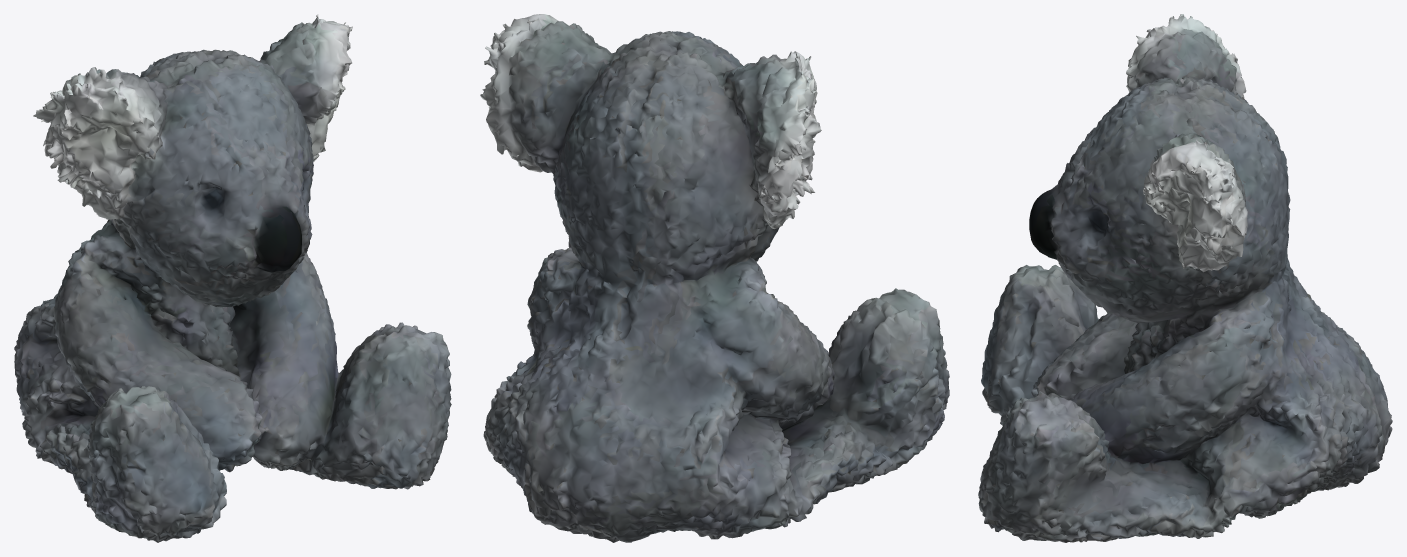
Rendered from Ortho_Forward_Facing_QCaor9ImJ2G-high.glb.
3 renders of one model, left to right at view 1: azimuth 30°, elevation 25°; view 2: azimuth 150°, elevation 25°; view 3: azimuth 270°, elevation 25°, orthographic. The views are drawn at different scales.
Visible parts, largest first — view 1: Ortho_Forward_Facing_QCaor9ImJ2G; view 2: Ortho_Forward_Facing_QCaor9ImJ2G; view 3: Ortho_Forward_Facing_QCaor9ImJ2G.
Boxes of the visible parts, x1=… form: Ortho_Forward_Facing_QCaor9ImJ2G: x1=14, y1=14, x2=451, y2=542; Ortho_Forward_Facing_QCaor9ImJ2G: x1=480, y1=14, x2=949, y2=542; Ortho_Forward_Facing_QCaor9ImJ2G: x1=978, y1=14, x2=1392, y2=542.
Size of the model in its own units: 0.1733 by 0.1954 by 0.1796.
Materials: 1 (1 with a texture image).
